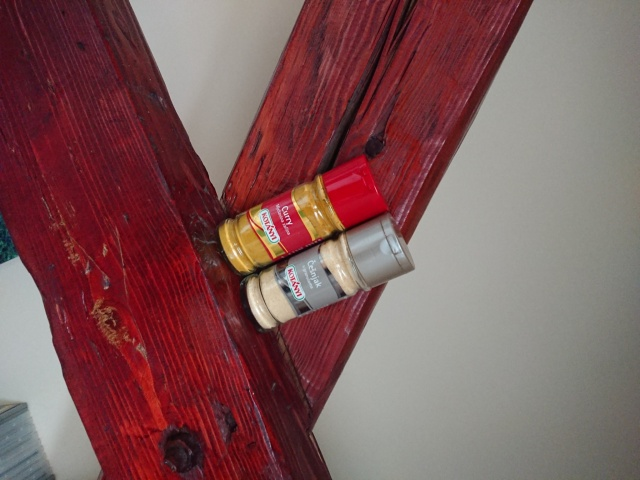Kotanyi Curry Spices Mix 70g: (212, 152, 394, 280)
Kotanyi Garlic Granules 70g: (236, 210, 417, 335)
